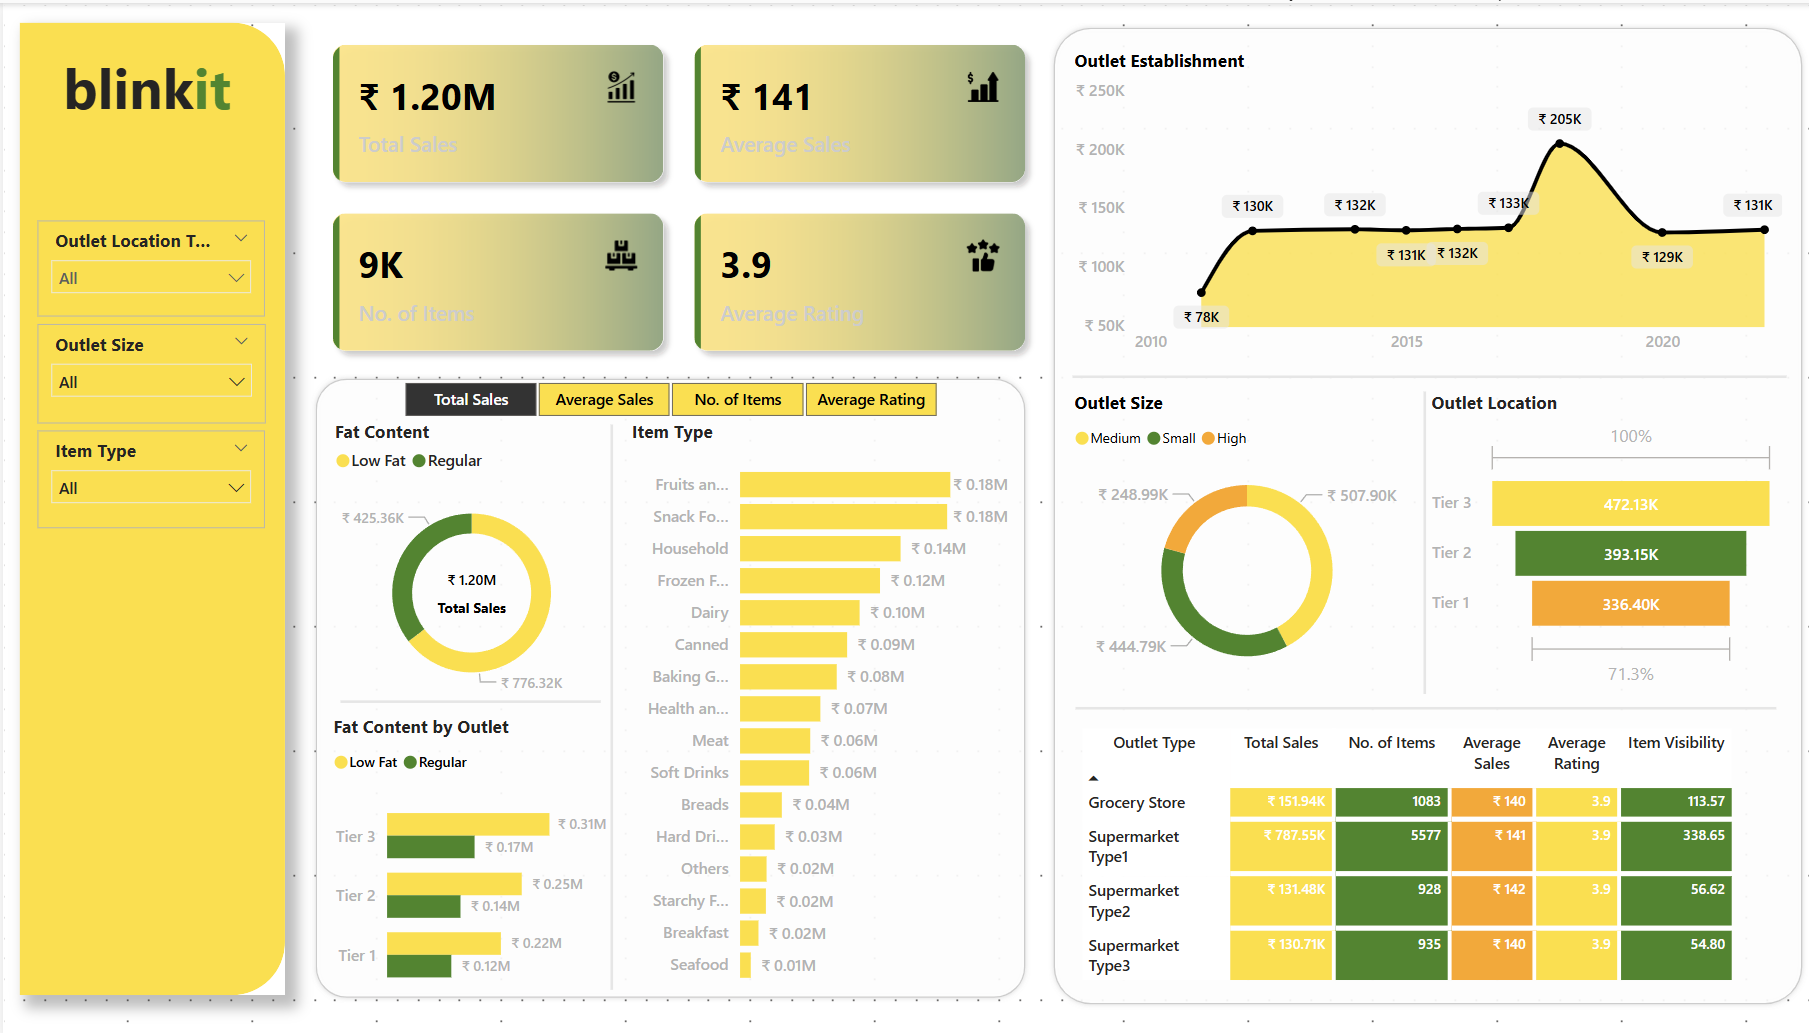

The page's visual inventory and layout, read from the dashboard file:
{"tool":"powerbi","page":{"name":"Page 1","canvas":[1400,800],"ordinal":0},"visuals":[{"type":"shape","box":[12.7,15,204.8,750.1],"z":500,"group":"g3"},{"type":"slicer","fields":{"Values":["Blinkit Data.Item Type"]},"box":[26.8,329.9,175.4,75.5],"z":1500,"group":"g3"},{"type":"shape","box":[237.1,285.7,555.2,485.3],"z":2000,"group":"g2"},{"type":"slicer","fields":{"Values":["Blinkit Data.Outlet Size"]},"box":[26.4,247.3,175.8,76.3],"z":2500,"group":"g3"},{"type":"shape","box":[806.2,15,585.3,761.1],"z":3000,"group":"g1"},{"type":"slicer","fields":{"Values":["Blinkit Data.Outlet Location Type"]},"box":[26.8,167.3,175.4,74.2],"z":3500,"group":"g3"},{"type":"textbox","box":[42.1,30.4,149.8,76.8],"z":4000,"group":"g3"},{"type":"shape","box":[826.7,533.2,540.4,21.2],"z":4750,"group":"g1"},{"type":"shape","box":[1086.6,300,20.5,233.3],"z":6500,"group":"g1"},{"type":"shape","box":[459.7,325,20.5,435.9],"z":7812,"group":"g2"},{"type":"shape","box":[260.1,529,200.8,20.3],"z":7906,"group":"g2"},{"type":"barChart","title":"Item Type","fields":{"Y":["Blinkit Data.Total Sales"],"Category":["Blinkit Data.Item Type"]},"box":[480.2,319.9,299.3,446.1],"z":8000,"group":"g2"},{"type":"shape","box":[824.1,277.4,550.6,21.2],"z":8250,"group":"g1"},{"type":"group","id":"g1","title":"Group 2","box":[806.2,15,585.3,761.1],"z":9750},{"type":"pivotTable","fields":{"Rows":["Blinkit Data.Outlet Type"],"Values":["Blinkit Data.Total Sales","Blinkit Data.No. of Items","Blinkit Data.Average Sales","Blinkit Data.Average Rating","Sum(Blinkit Data.Item Visibility)"]},"box":[826.7,554.4,540.4,207.1],"z":10000,"group":"g1"},{"type":"funnel","title":"Outlet Location","fields":{"Category":["Blinkit Data.Outlet Location Type"],"Y":["Sum(Blinkit Data.Sales)"]},"box":[1096.9,298.6,275.3,233.3],"z":10125,"group":"g1"},{"type":"donutChart","title":"Outlet Size","fields":{"Category":["Blinkit Data.Outlet Size"],"Y":["Blinkit Data.Total Sales"]},"box":[821.6,298.6,275.3,233.3],"z":10250,"group":"g1"},{"type":"lineChart","title":"Outlet Establishment","fields":{"Y":["Blinkit Data.Total Sales"],"Category":["Blinkit Data.Outlet Establishment Year"]},"box":[821.6,34.9,555.8,243.9],"z":10500,"group":"g1"},{"type":"group","id":"g2","title":"Group 1","box":[237.1,285.7,555.2,490.4],"z":10500},{"type":"cardVisual","fields":{"Data":["Blinkit Data.Total Sales","Blinkit Data.Average Sales","Blinkit Data.No. of Items","Blinkit Data.Average Rating"]},"box":[237.1,15,569.1,270.7],"z":10750},{"type":"group","id":"g3","title":"Filter Box","box":[12.7,15,204.7,750.7],"z":11000},{"type":"clusteredBarChart","title":"Fat Content by Outlet","fields":{"Y":["Blinkit Data.Total Sales"],"Category":["Blinkit Data.Outlet Location Type"],"Series":["Blinkit Data.Item Fat Content"]},"box":[249.9,548,220,228.1],"z":12500,"group":"g2"},{"type":"donutChart","title":"Fat Content","fields":{"Y":["Blinkit Data.Total Sales"],"Category":["Blinkit Data.Item Fat Content"]},"box":[251.2,319.9,220,228.1],"z":17000,"group":"g2"},{"type":"cardVisual","fields":{"Data":["Blinkit Data.Total Sales"]},"box":[316.4,420,89.4,69.3],"z":17250,"group":"g2"},{"type":"slicer","fields":{"Values":["Metrics.Metrics"]},"box":[284.4,285.7,459.2,39.3],"z":17500,"group":"g2"}]}

Visuals, with their boxes in screenshot pixels (x1, y1, x2, y2), scaled from the page's 1400x800 canvas onto the 1809x1033 screenshot:
shape: x1=16, y1=19, x2=281, y2=988
slicer - Blinkit Data.Item Type: x1=35, y1=426, x2=261, y2=523
shape: x1=306, y1=369, x2=1024, y2=996
slicer - Blinkit Data.Outlet Size: x1=34, y1=319, x2=261, y2=418
shape: x1=1042, y1=19, x2=1798, y2=1002
slicer - Blinkit Data.Outlet Location Type: x1=35, y1=216, x2=261, y2=312
textbox: x1=54, y1=39, x2=248, y2=138
shape: x1=1068, y1=688, x2=1766, y2=716
shape: x1=1404, y1=387, x2=1431, y2=689
shape: x1=594, y1=420, x2=620, y2=983
shape: x1=336, y1=683, x2=596, y2=709
"Item Type" barChart: x1=620, y1=413, x2=1007, y2=989
shape: x1=1065, y1=358, x2=1776, y2=386
"Group 2" group: x1=1042, y1=19, x2=1798, y2=1002
pivotTable - Blinkit Data.Outlet Type x Blinkit Data.Total Sales: x1=1068, y1=716, x2=1766, y2=983
"Outlet Location" funnel: x1=1417, y1=386, x2=1773, y2=687
"Outlet Size" donutChart: x1=1062, y1=386, x2=1417, y2=687
"Outlet Establishment" lineChart: x1=1062, y1=45, x2=1780, y2=360
"Group 1" group: x1=306, y1=369, x2=1024, y2=1002
cardVisual - Blinkit Data.Total Sales x Blinkit Data.Average Sales: x1=306, y1=19, x2=1042, y2=369
"Filter Box" group: x1=16, y1=19, x2=281, y2=989
"Fat Content by Outlet" clusteredBarChart: x1=323, y1=708, x2=607, y2=1002
"Fat Content" donutChart: x1=325, y1=413, x2=609, y2=708
cardVisual - Blinkit Data.Total Sales: x1=409, y1=542, x2=524, y2=632
slicer - Metrics.Metrics: x1=367, y1=369, x2=961, y2=420
